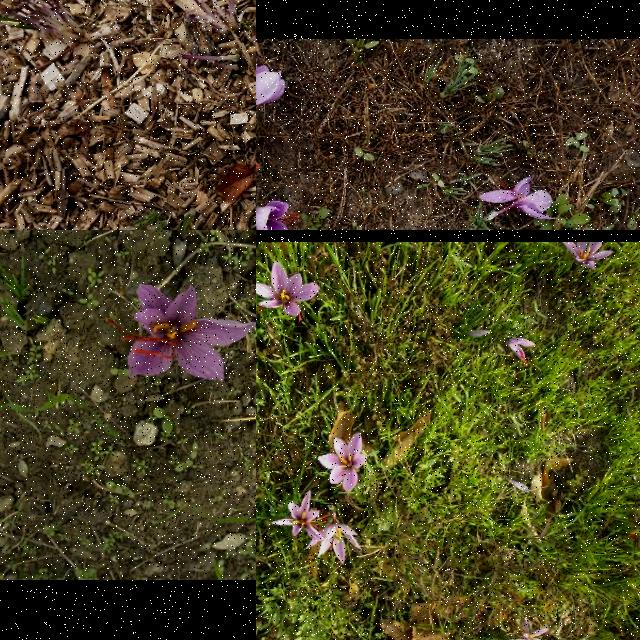flower: (104, 284, 256, 384), (256, 261, 321, 322), (479, 176, 557, 220), (272, 492, 332, 542), (319, 433, 367, 493), (304, 523, 364, 565), (256, 58, 286, 110), (564, 242, 614, 270), (256, 200, 300, 230), (508, 336, 536, 364), (627, 508, 640, 545), (469, 329, 491, 338)
